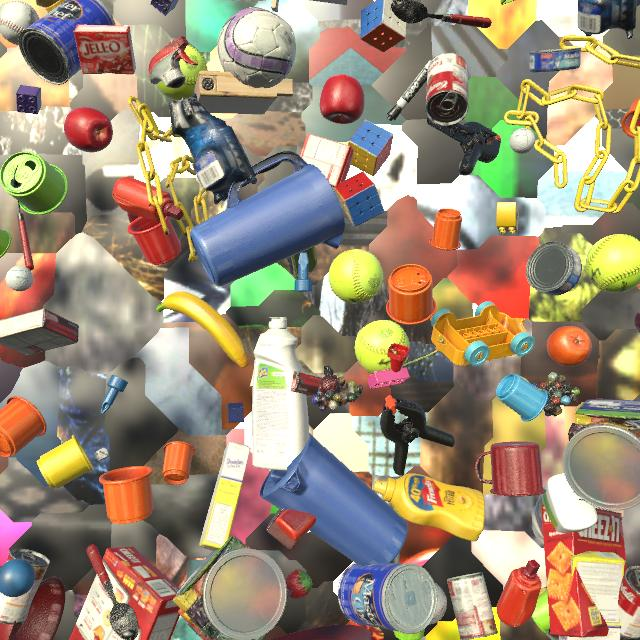ycb_002_master_chef_can: (18, 0, 116, 85), (338, 563, 437, 634)
ycb_003_cracker_box: (541, 505, 627, 638), (69, 547, 180, 640)
ycb_004_sugar_box: (559, 551, 626, 640), (199, 441, 251, 551)
ycb_005_tomato_soup_can: (0, 548, 50, 625), (447, 572, 498, 640), (425, 52, 469, 126), (618, 566, 640, 639)
ycb_006_mustard_bottle: (373, 473, 485, 542), (35, 0, 65, 13)
ycb_007_tuna_fish_can: (526, 241, 582, 296), (529, 47, 581, 72)
ycb_008_pudding_box: (0, 308, 79, 355), (250, 370, 322, 397)
ycb_009_gelatin_box: (294, 133, 354, 187), (73, 24, 136, 74)
ycb_010_potted_meat_can: (277, 246, 317, 279)
ycb_011_banana: (156, 291, 249, 368)
ycb_012_strawberry: (285, 569, 312, 599)
ycb_013_apple: (320, 74, 365, 124), (64, 107, 113, 152)
ycb_017_orange: (547, 326, 592, 366)
ycb_018_plum: (634, 310, 640, 332)
